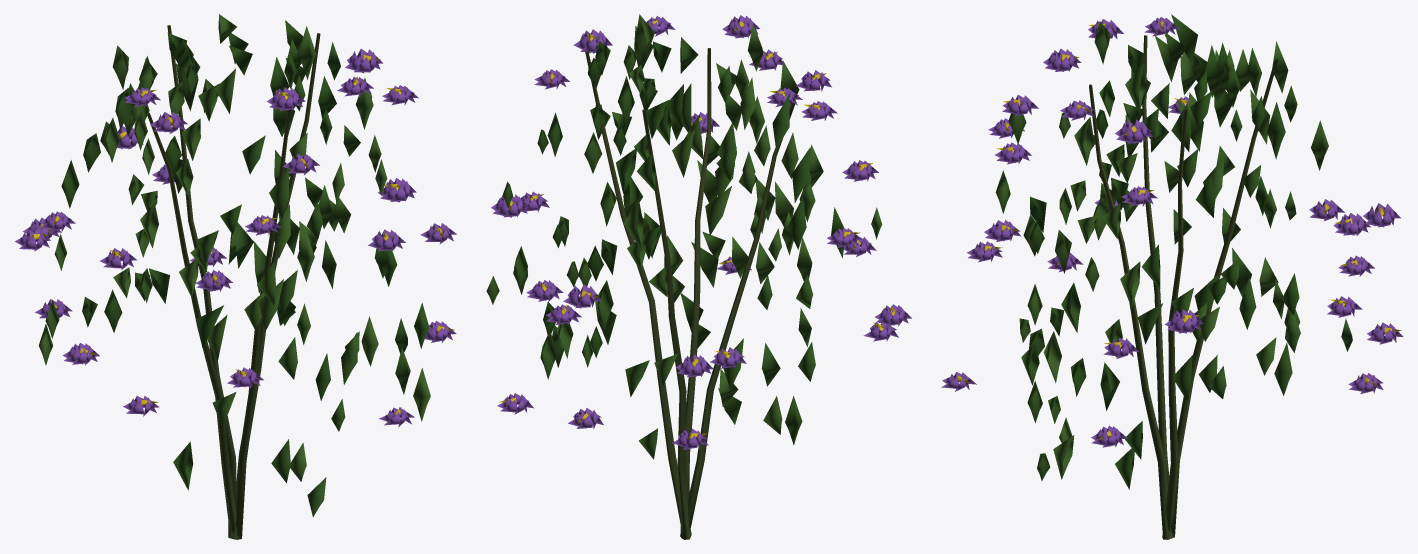
Rendered from Flower_Aster_0.glb.
The picture shows the model from 3 angles, left to right: view 1: azimuth 30°, elevation 25°; view 2: azimuth 150°, elevation 25°; view 3: azimuth 270°, elevation 25°; orthographic projection.
Parts seen in each view (by area): view 1: Flower_Aster_0; view 2: Flower_Aster_0; view 3: Flower_Aster_0.
Boxes of the visible parts, left/top/right/bottom form: Flower_Aster_0: left=15, top=14, right=456, bottom=539; Flower_Aster_0: left=486, top=14, right=911, bottom=539; Flower_Aster_0: left=941, top=14, right=1403, bottom=539.
Size of the model in its own units: 0.7538 by 0.9258 by 0.77.
